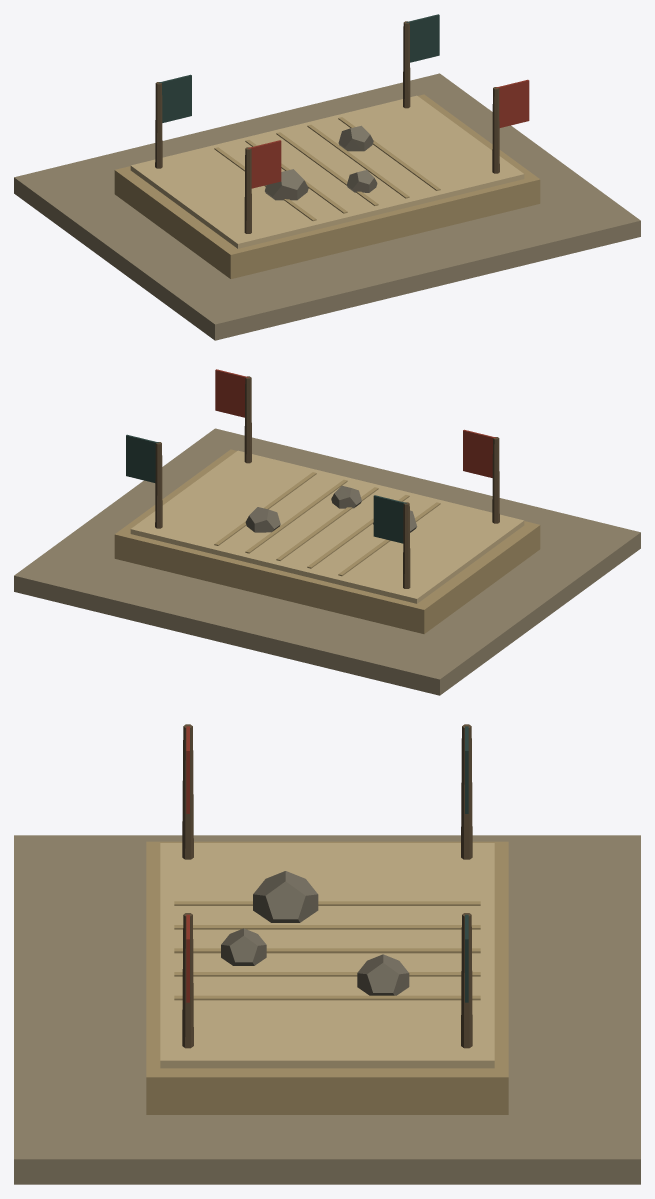
The model's file is shapan.glb.
3 views of the same model, one above another, from view 1: azimuth 30°, elevation 25°; view 2: azimuth 150°, elevation 25°; view 3: azimuth 270°, elevation 25° (orthographic). The views are drawn at different scales.
Visible parts, largest first — view 1: shapan; view 2: shapan; view 3: shapan.
Boxes of the visible parts, x1,y1,x2,y2 form: shapan: (14, 14, 640, 340); shapan: (14, 369, 640, 695); shapan: (14, 724, 640, 1184).
Bounding box in the file's own units: 14 × 4.07 × 11.45.
